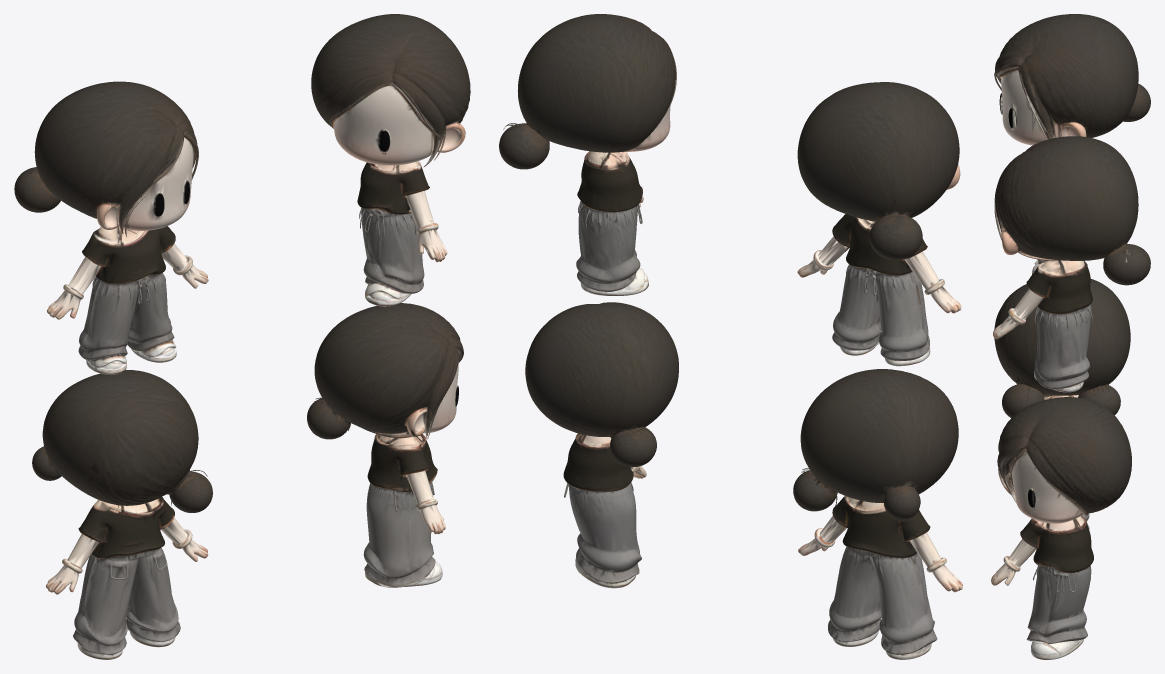
Rendered from pangbobo-small.glb.
3 views of the same model, side by side, from view 1: azimuth 30°, elevation 25°; view 2: azimuth 150°, elevation 25°; view 3: azimuth 270°, elevation 25° (orthographic). The views are drawn at different scales.
Parts seen in each view (by area): view 1: node_0; view 2: node_0; view 3: node_0.
Boxes of the visible parts, x1,y1,x2,y2 form: node_0: (14, 14, 470, 659); node_0: (499, 14, 962, 659); node_0: (991, 14, 1150, 659).
Size of the model in its own units: 0.7911 by 0.9978 by 0.2887.
Materials: 1 (1 with a texture image).
